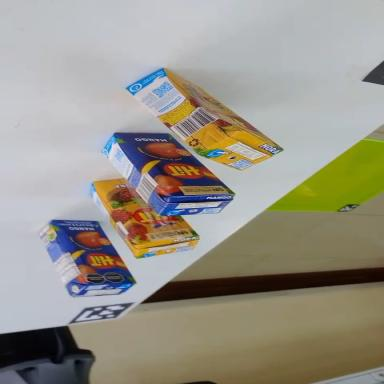HIT-MANGO: (94, 106, 236, 245), (31, 200, 137, 317)
HIT-MORA: (120, 52, 283, 192), (71, 166, 203, 281)
cara_F: (110, 106, 234, 226), (87, 153, 198, 269), (164, 63, 282, 156), (49, 200, 136, 304)
